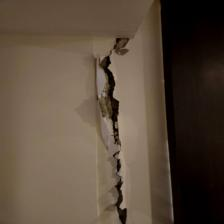High: (87, 32, 140, 224)
